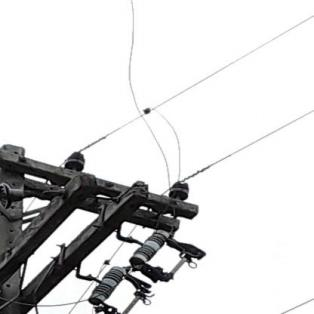Poste: (0, 130, 40, 314)
